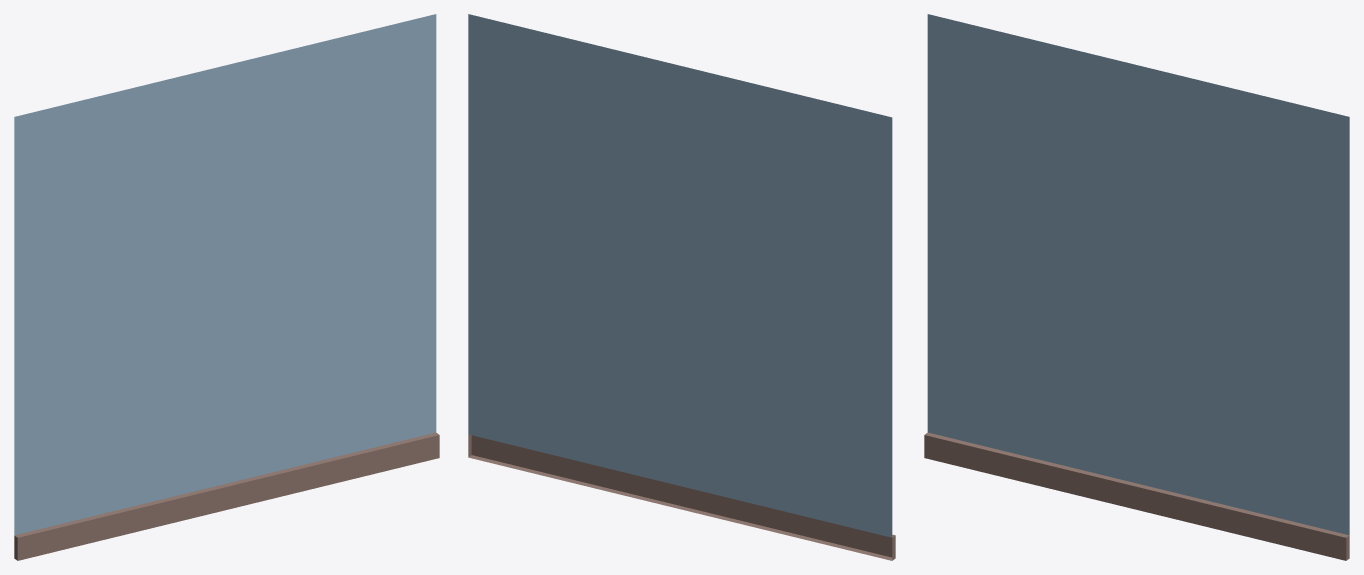
Rendered from wall.fbx.
3 views of the same model, side by side, from view 1: azimuth 30°, elevation 25°; view 2: azimuth 150°, elevation 25°; view 3: azimuth 330°, elevation 25° (orthographic).
Visible parts, largest first — view 1: wall; view 2: wall; view 3: wall.
Boxes of the visible parts, x1=… form: wall: x1=14, y1=14, x2=439, y2=560; wall: x1=468, y1=14, x2=895, y2=560; wall: x1=924, y1=14, x2=1349, y2=560.
Bounding box in the file's own units: 6 × 6 × 0.0848.
